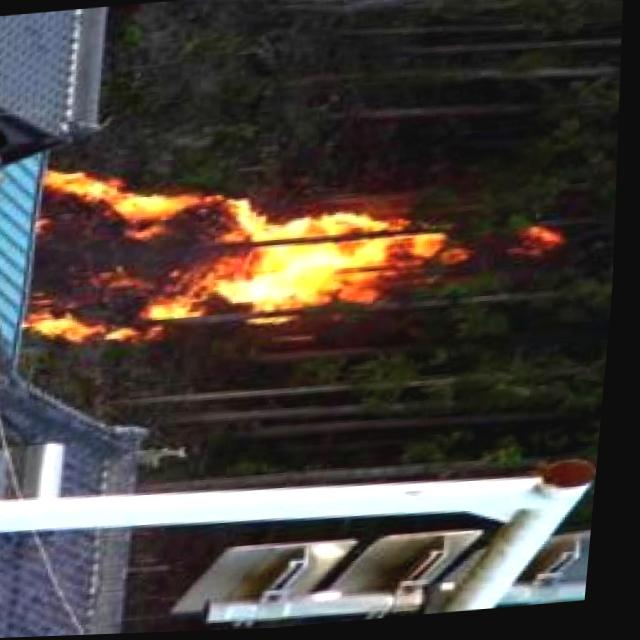helmet: (15, 139, 474, 357)
